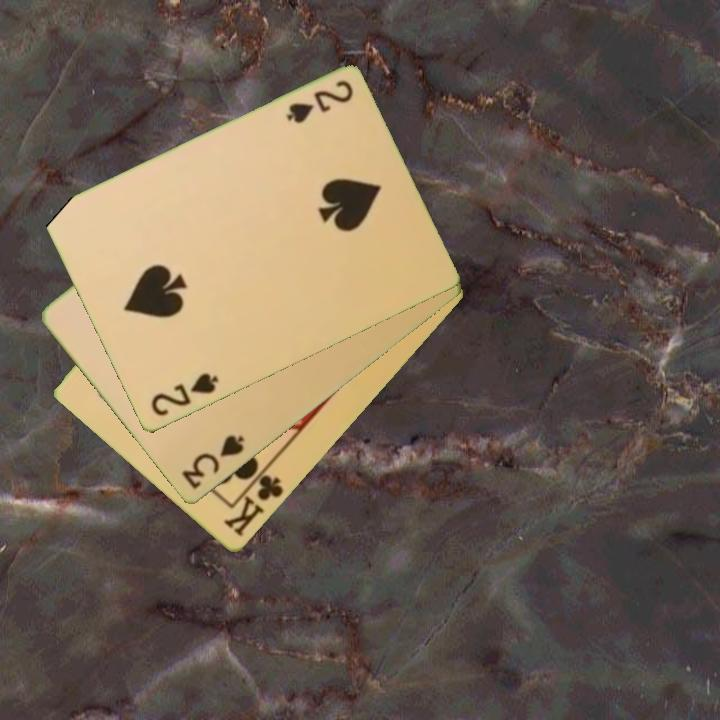2s: (147, 369, 222, 420), (282, 77, 356, 127)
3s: (178, 432, 247, 493)
Kc: (219, 463, 286, 541)
